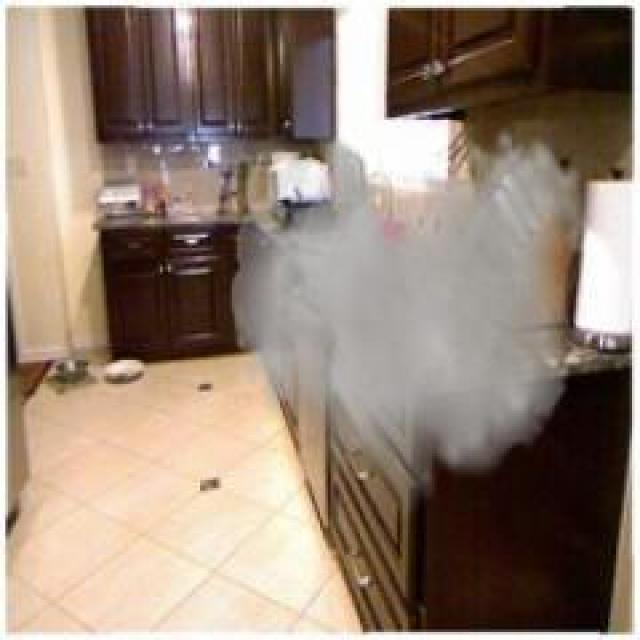Smoke: (230, 125, 586, 528)
